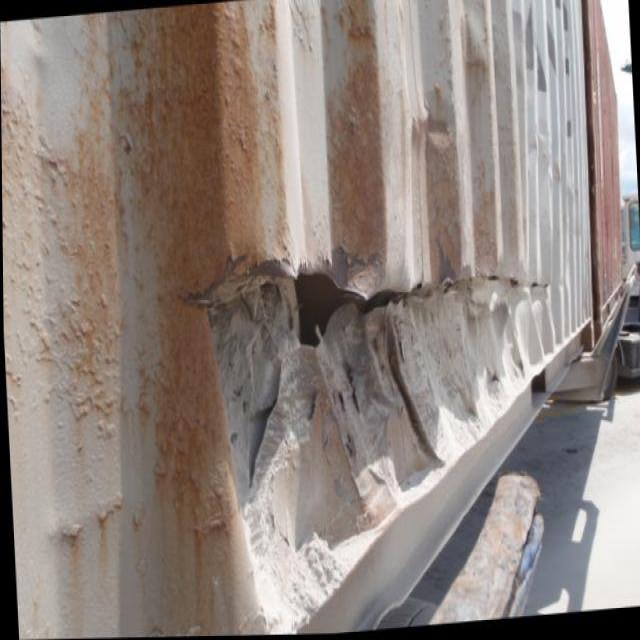hole: (193, 249, 557, 358)
